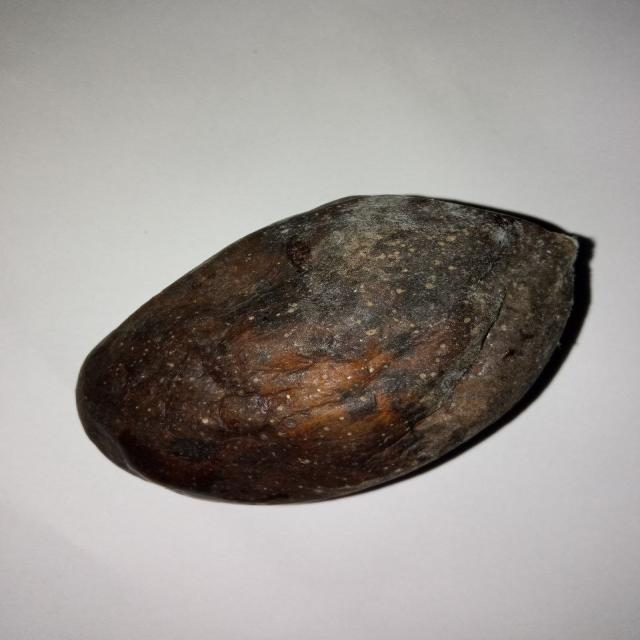rotten_mango: (73, 196, 581, 504)
